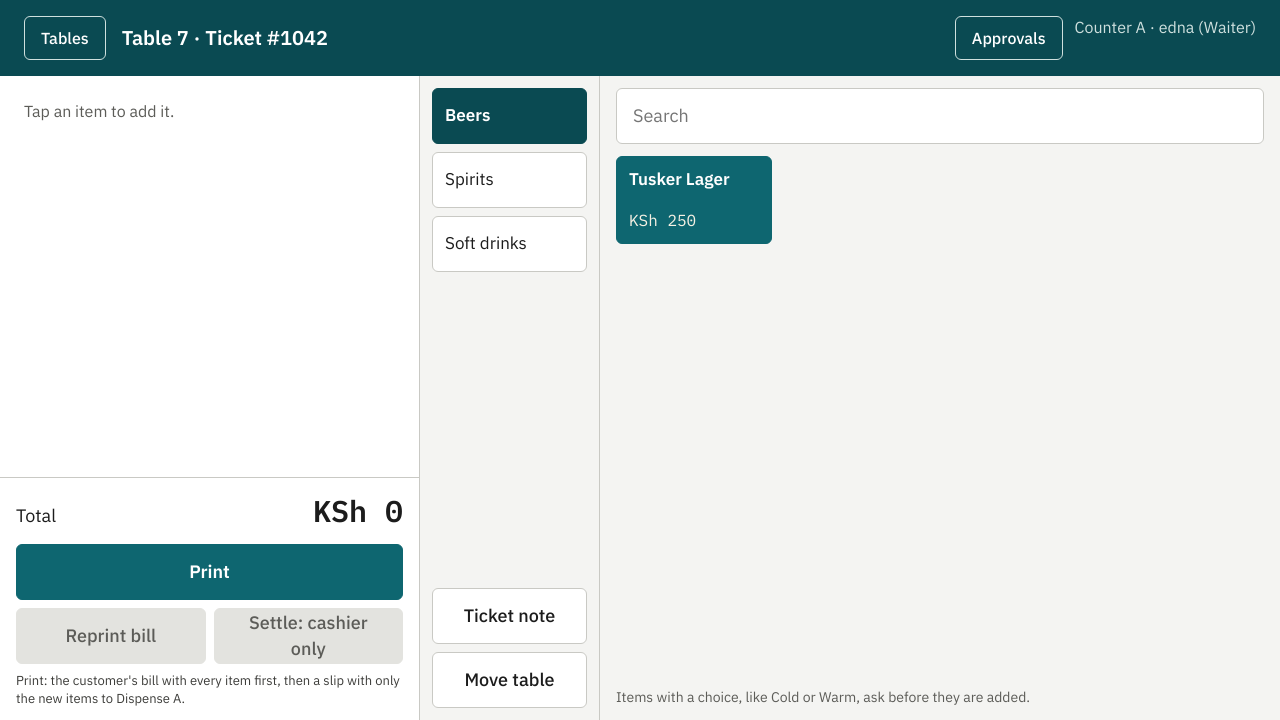
order screen › removes a refused add and says why
This screenshot has width=1280, height=720.
Click the button "Soft drinks" at (510, 244), box [432,216,587,272]
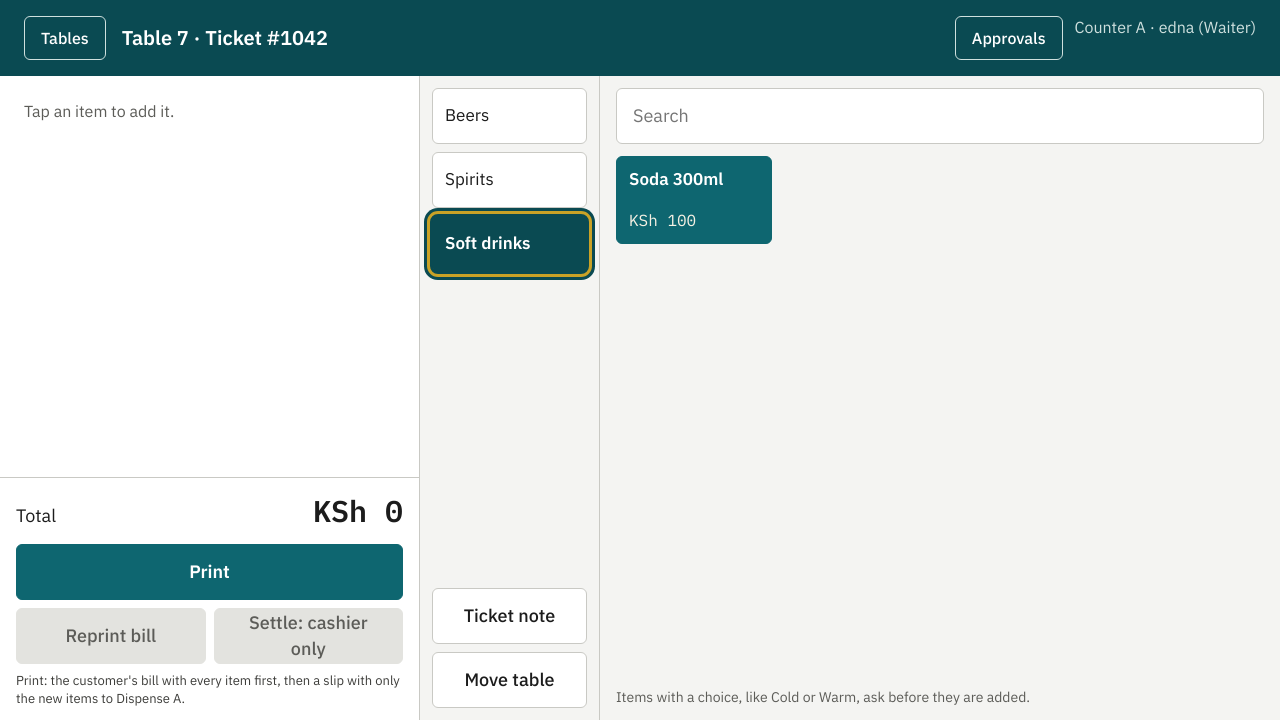
Click the button "Soda 300ml KSh 100" at (694, 200), box [616,156,772,244]
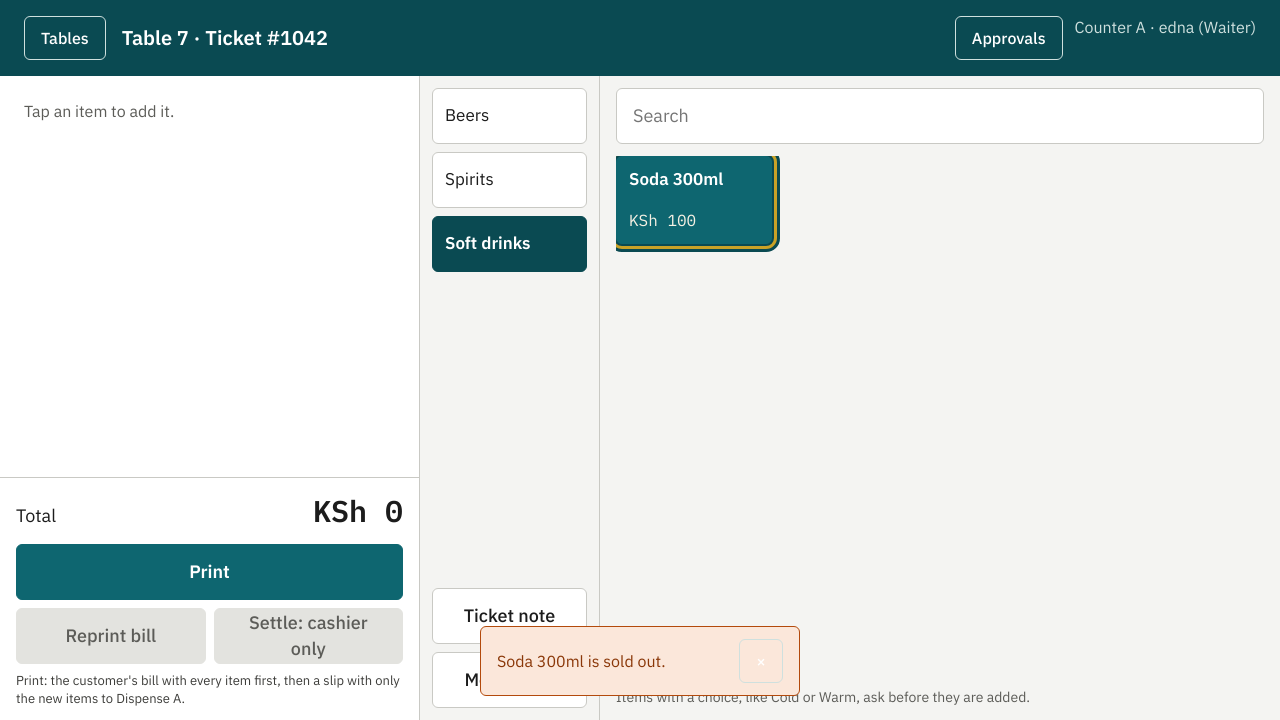
Now the text "Soda 300ml is sold out." is shown, box [497,651,666,671]
